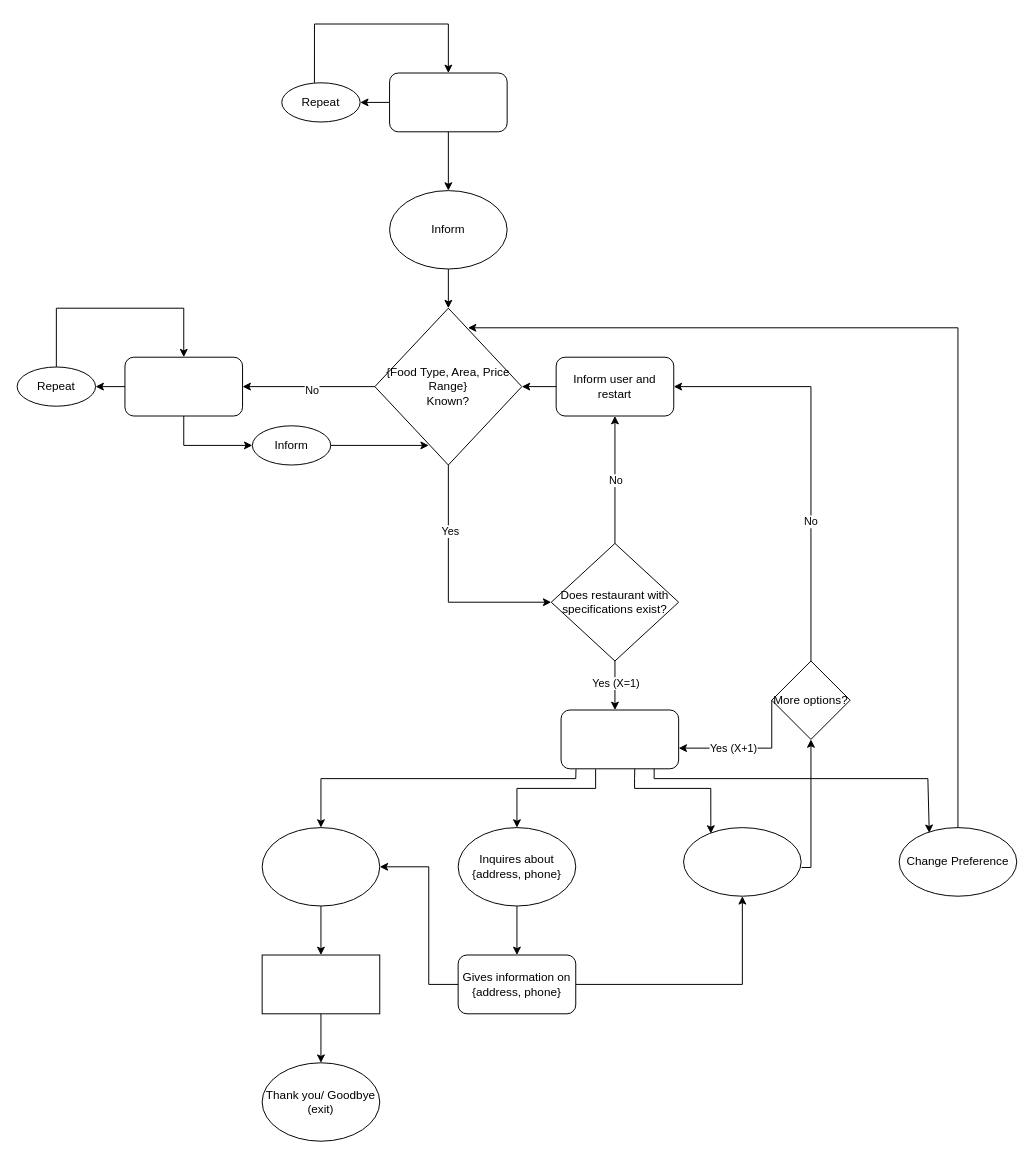
Some shapes in this 1034 by 1158 pixel diagram are drawn without their labels. The box of each missing label's shape, as (x1, y1, x2, y2) in pixels:
Ask {Food Type, Area, Price Range}: (124, 356, 243, 416)
Confirm: (261, 827, 380, 906)
Confirm with user: (261, 954, 380, 1014)
Deny: (683, 827, 801, 896)
Inform user of option X: (560, 709, 679, 769)
Welcome: (389, 72, 507, 132)
